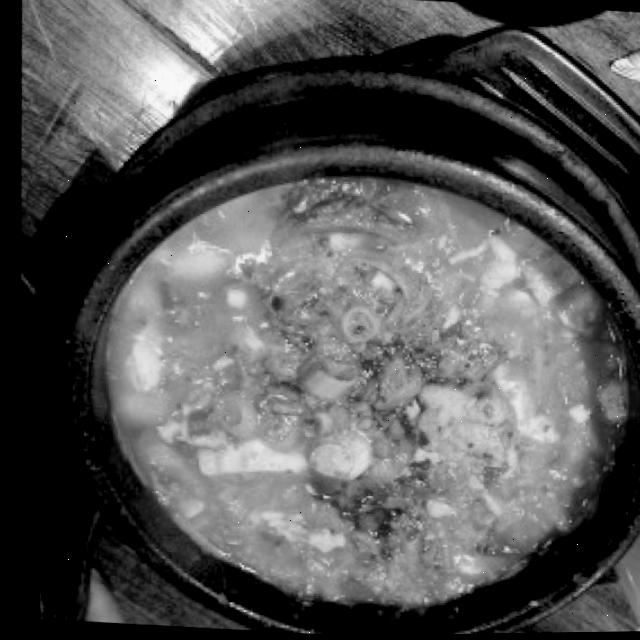汤锅炖物: (42, 83, 640, 640)
